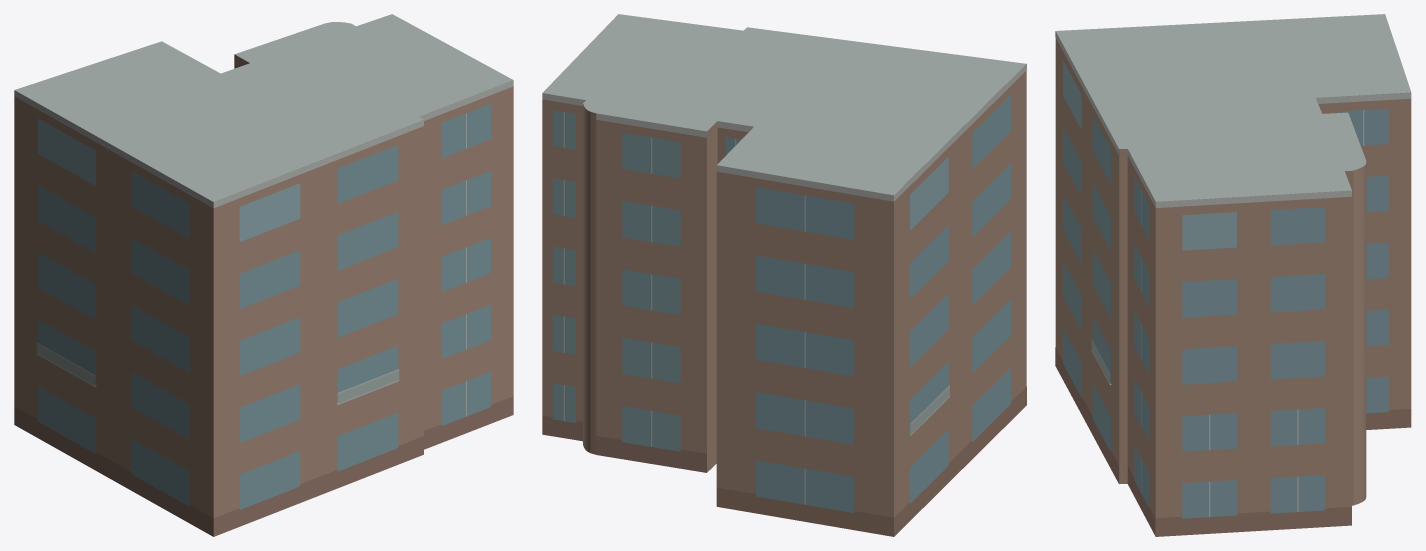
The model's file is survey-upis-32986437.glb.
The picture shows the model from 3 angles, left to right: view 1: azimuth 30°, elevation 25°; view 2: azimuth 150°, elevation 25°; view 3: azimuth 270°, elevation 25°; orthographic projection. The views are drawn at different scales.
Parts seen in each view (by area): view 1: survey-upis-32986437.tmp; view 2: survey-upis-32986437.tmp; view 3: survey-upis-32986437.tmp.
Boxes of the visible parts, x1=… form: survey-upis-32986437.tmp: x1=14, y1=14, x2=513, y2=536; survey-upis-32986437.tmp: x1=542, y1=14, x2=1026, y2=536; survey-upis-32986437.tmp: x1=1055, y1=14, x2=1411, y2=536.
Size of the model in its own units: 15.77 by 13.1 by 12.62.
